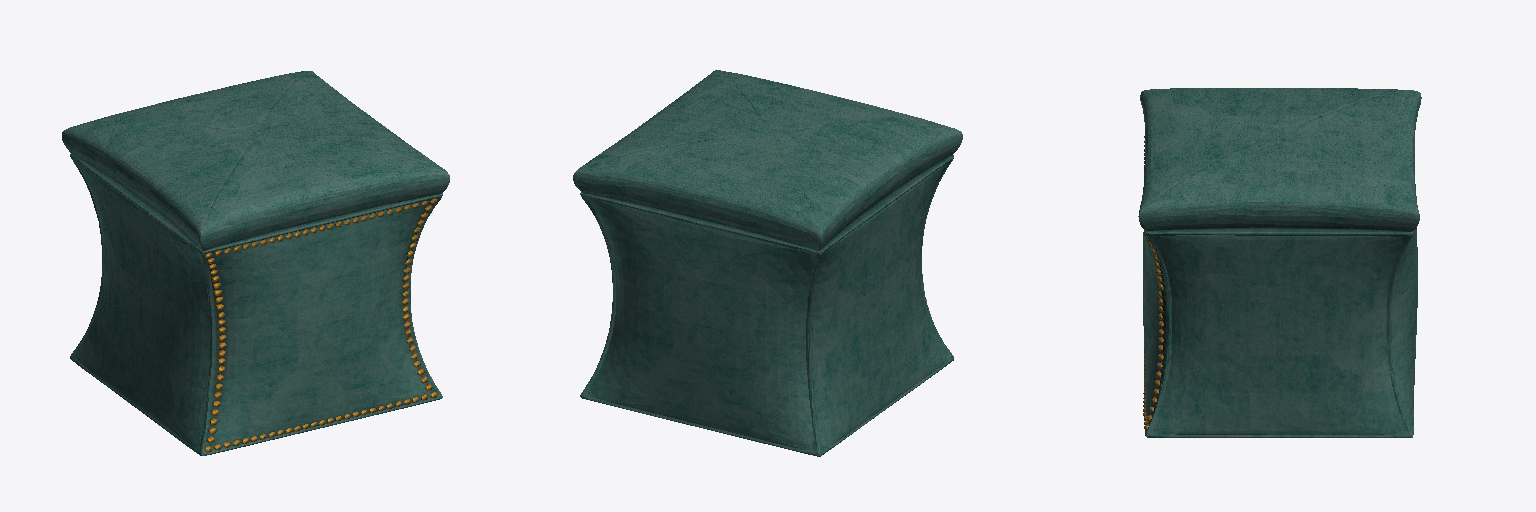
The picture shows the model from 3 angles: view 1: azimuth 30°, elevation 25°; view 2: azimuth 150°, elevation 25°; view 3: azimuth 270°, elevation 25°; orthographic projection.
Parts seen in each view (by area): view 1: solid_001, solid_002; view 2: solid_001; view 3: solid_001, solid_002.
Boxes of the visible parts, <box> form: solid_001: <box>62,71,449,455</box>; solid_002: <box>205,198,437,451</box>; solid_001: <box>573,70,962,456</box>; solid_001: <box>1138,88,1421,437</box>; solid_002: <box>1143,136,1163,430</box>.
Bounding box in the file's own units: 0.5246 × 0.4931 × 0.5121.
1 materials, 1 textured.